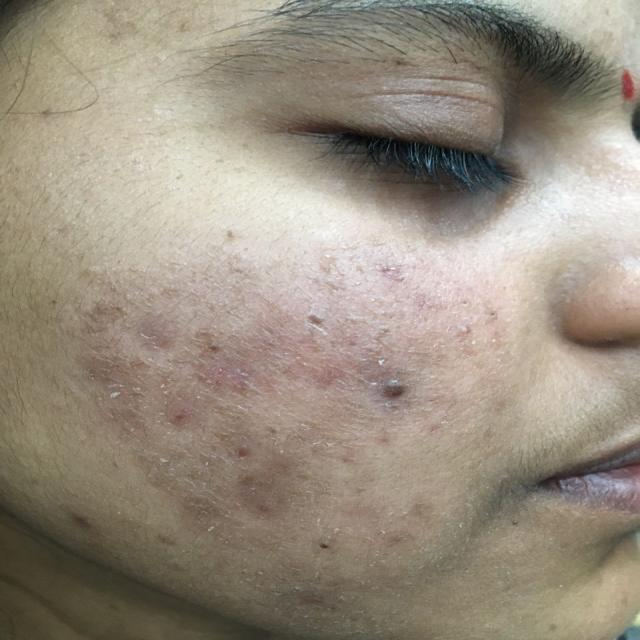Acne: (110, 317, 580, 487)
Dry-Skin: (27, 73, 639, 640)
